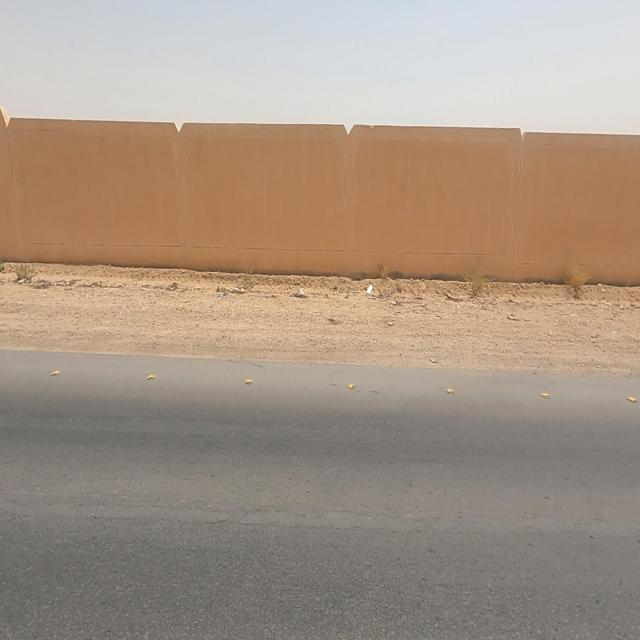debris: (197, 260, 256, 322), (272, 256, 326, 321), (346, 269, 390, 315)
